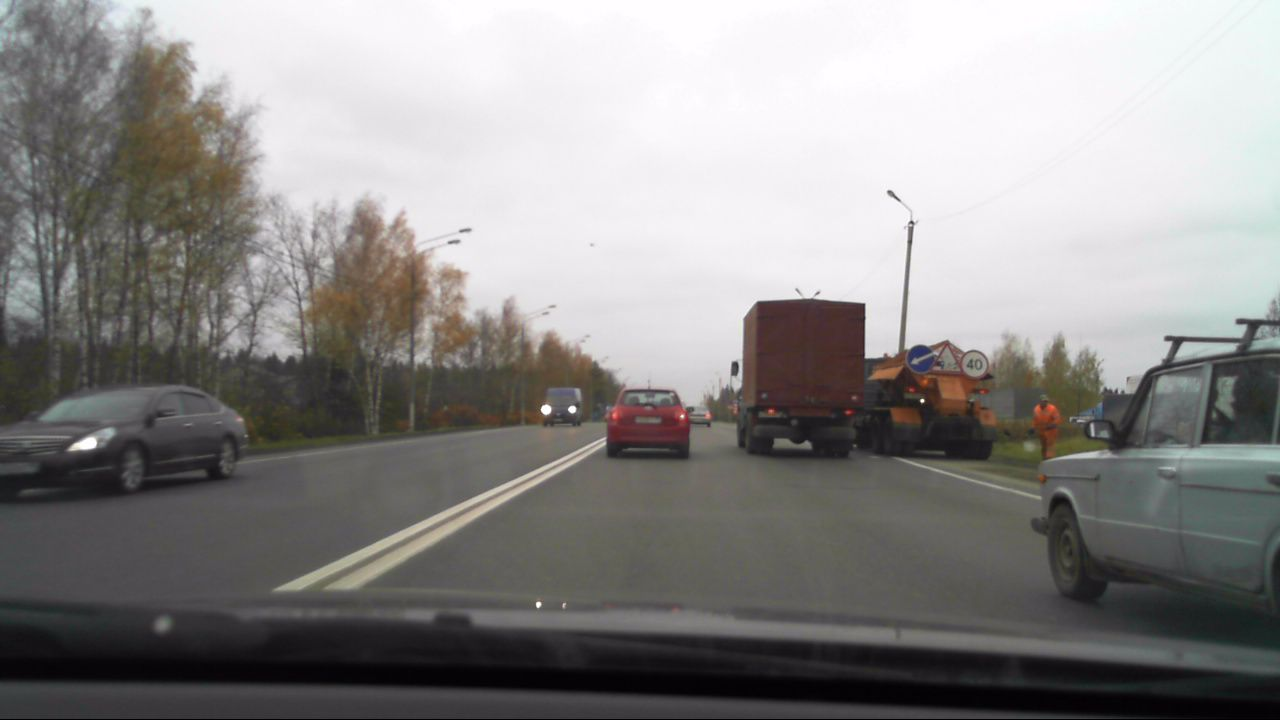speed_warning_40: (962, 348, 988, 380)
